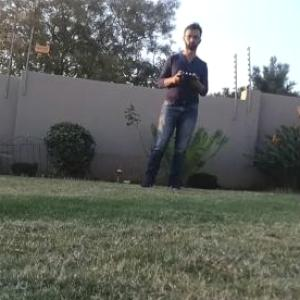follow: (132, 16, 211, 194)
